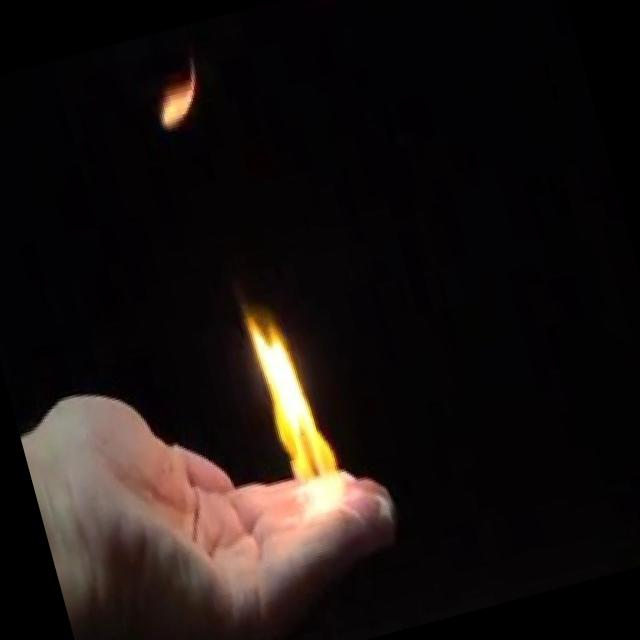Fire: (232, 290, 360, 548)
